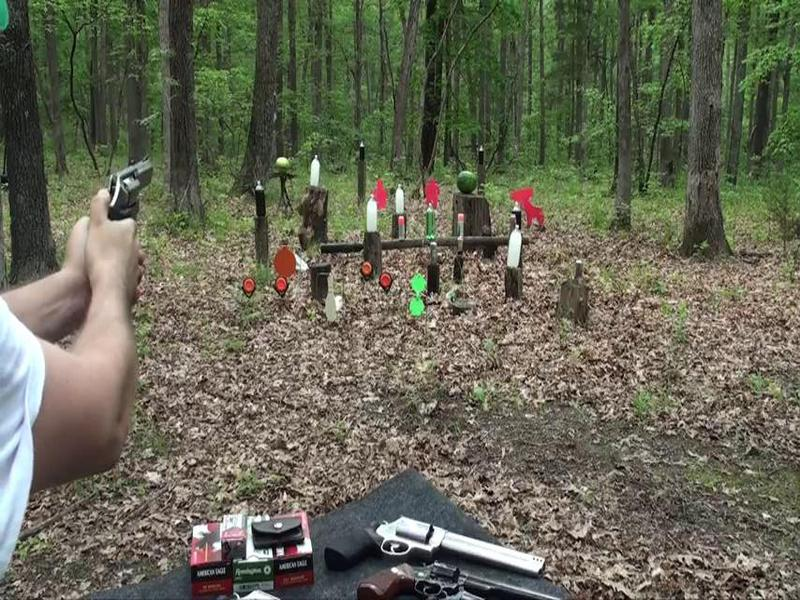Revolver: (88, 141, 161, 264)
